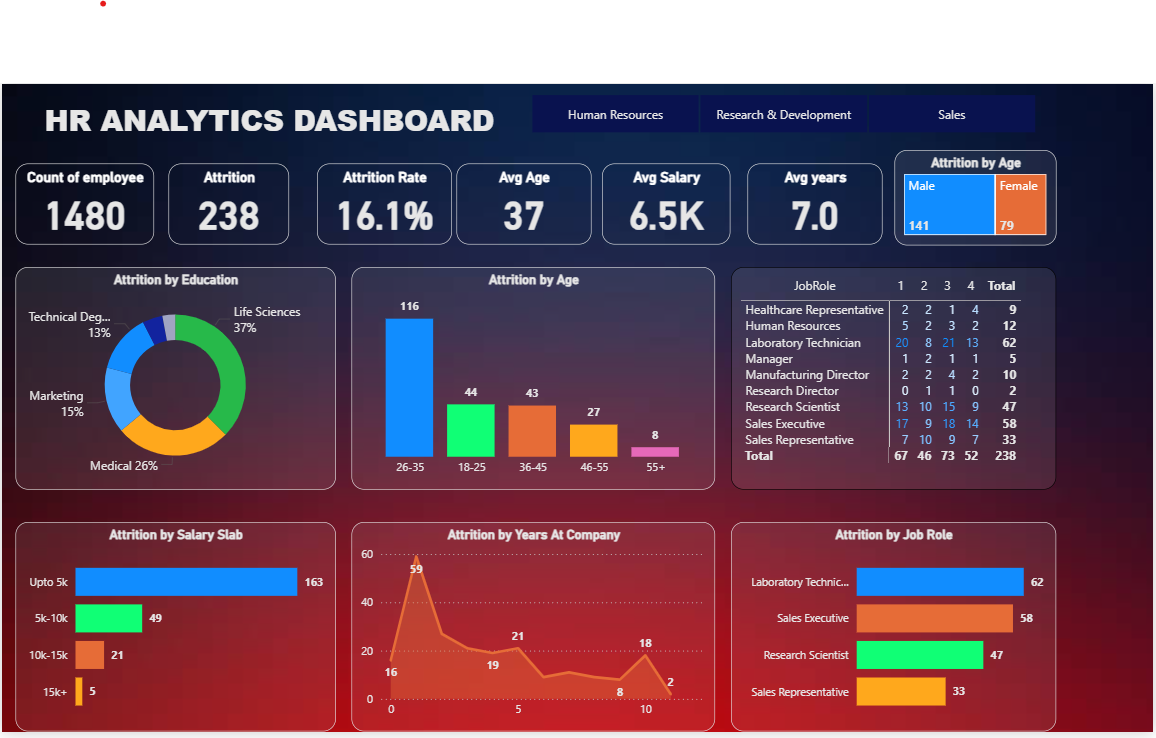

The page's visual inventory and layout, read from the dashboard file:
{"tool":"powerbi","page":{"name":"Page 1","canvas":[1280,720],"ordinal":0},"visuals":[{"type":"card","title":"Count of employee","fields":{"Values":["CountNonNull(YearsWithCurrManager.EmpID)"]},"box":[15.7,88.6,154.3,90],"z":0},{"type":"card","title":"Attrition","fields":{"Values":["Sum(YearsWithCurrManager.AttritionCount)"]},"box":[185.7,88.6,134.3,90],"z":1000},{"type":"card","title":"Attrition Rate","fields":{"Values":["HR_Analytics.AttritionRate"]},"box":[350,88.6,150,90],"z":2000},{"type":"card","title":"Avg Age","fields":{"Values":["Avg(YearsWithCurrManager.Age)"]},"box":[504.3,88.6,150,90],"z":3000},{"type":"card","title":"Avg Salary","fields":{"Values":["Avg(YearsWithCurrManager.MonthlyIncome)"]},"box":[667.1,88.6,142.9,90],"z":4000},{"type":"card","title":"Avg years","fields":{"Values":["Avg(YearsWithCurrManager.YearsAtCompany)"]},"box":[828.6,88.6,150,90],"z":5000},{"type":"donutChart","title":" Attrition by Education","fields":{"Category":["YearsWithCurrManager.EducationField"],"Y":["Sum(YearsWithCurrManager.AttritionCount)"]},"box":[15.7,202.9,355.7,247.1],"z":6000},{"type":"columnChart","title":" Attrition by Age","fields":{"Category":["YearsWithCurrManager.AgeGroup"],"Y":["Sum(YearsWithCurrManager.AttritionCount)"]},"box":[388.6,202.9,404.3,247.1],"z":7000},{"type":"pivotTable","fields":{"Rows":["YearsWithCurrManager.JobRole"],"Columns":["YearsWithCurrManager.JobSatisfaction"],"Values":["Sum(YearsWithCurrManager.AttritionCount)"]},"box":[810,202.9,361.4,247.1],"z":8000},{"type":"clusteredBarChart","title":" Attrition by Salary Slab","fields":{"Category":["YearsWithCurrManager.SalarySlab"],"Y":["Sum(YearsWithCurrManager.AttritionCount)"]},"box":[15.7,487.1,355.7,232.9],"z":9000},{"type":"clusteredBarChart","title":" Attrition by Job Role","fields":{"Category":["YearsWithCurrManager.JobRole"],"Y":["Sum(YearsWithCurrManager.AttritionCount)"]},"box":[810,487.1,361.4,232.9],"z":10000},{"type":"areaChart","title":" Attrition by Years At Company","fields":{"Category":["YearsWithCurrManager.YearsAtCompany"],"Y":["Sum(YearsWithCurrManager.AttritionCount)"]},"box":[388.6,487.1,404.3,232.9],"z":11000},{"type":"treemap","title":" Attrition by Age","fields":{"Values":["Sum(YearsWithCurrManager.AttritionCount)"],"Group":["YearsWithCurrManager.Gender"]},"box":[991.4,72.9,180,105.7],"z":12000},{"type":"slicer","fields":{"Values":["YearsWithCurrManager.Department"]},"box":[562.9,5.7,608.6,55.7],"z":13000},{"type":"textbox","box":[15.7,11.4,564.3,114.3],"z":14000}]}

Visuals, with their boxes on the page's 1280x720 design canvas (x1, y1, x2, y2). These are canvas units, not pixel positions in the 1156x738 screenshot, which may show the page scaled, cropped or inside an application window:
"Count of employee" card: region(16, 89, 170, 179)
"Attrition" card: region(186, 89, 320, 179)
"Attrition Rate" card: region(350, 89, 500, 179)
"Avg Age" card: region(504, 89, 654, 179)
"Avg Salary" card: region(667, 89, 810, 179)
"Avg years" card: region(829, 89, 979, 179)
" Attrition by Education" donutChart: region(16, 203, 371, 450)
" Attrition by Age" columnChart: region(389, 203, 793, 450)
pivotTable - YearsWithCurrManager.JobRole x YearsWithCurrManager.JobSatisfaction: region(810, 203, 1171, 450)
" Attrition by Salary Slab" clusteredBarChart: region(16, 487, 371, 720)
" Attrition by Job Role" clusteredBarChart: region(810, 487, 1171, 720)
" Attrition by Years At Company" areaChart: region(389, 487, 793, 720)
" Attrition by Age" treemap: region(991, 73, 1171, 179)
slicer - YearsWithCurrManager.Department: region(563, 6, 1172, 61)
textbox: region(16, 11, 580, 126)
